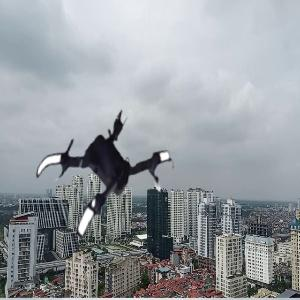drone: (35, 95, 186, 246)
